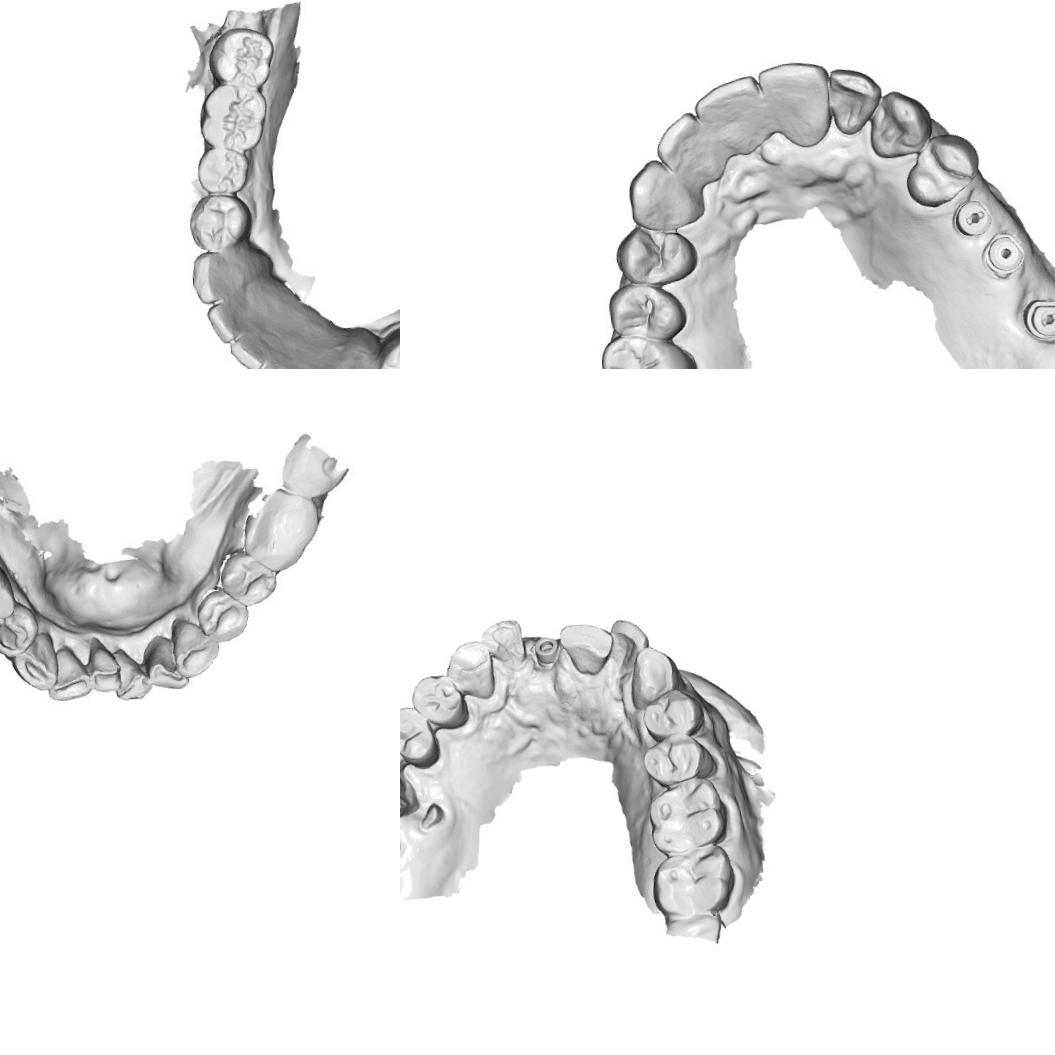canine: (624, 154, 708, 235), (864, 84, 935, 162), (190, 243, 268, 306), (626, 642, 688, 710), (170, 613, 222, 675), (444, 638, 496, 700), (15, 631, 62, 692), (326, 336, 386, 369)
implant: (980, 228, 1029, 282), (531, 634, 560, 666)
implant_minus: (951, 190, 996, 240), (1019, 294, 1055, 345)
incisor: (690, 72, 766, 154), (754, 59, 834, 134), (824, 61, 884, 136), (653, 109, 713, 184), (556, 620, 616, 678), (42, 644, 92, 708), (208, 292, 266, 346), (141, 635, 191, 693), (604, 616, 652, 674), (109, 648, 155, 704), (479, 616, 527, 668), (84, 639, 124, 694), (230, 334, 275, 369), (255, 349, 304, 369)
molar: (644, 774, 728, 856), (648, 840, 736, 918), (244, 489, 320, 566), (196, 80, 268, 148), (208, 25, 274, 94), (597, 329, 700, 369), (400, 734, 419, 821), (0, 565, 15, 625)
premolar: (901, 130, 982, 210), (613, 224, 702, 290), (606, 280, 688, 342), (640, 730, 717, 790), (640, 686, 706, 744), (408, 672, 470, 732), (219, 552, 282, 608), (190, 194, 249, 252), (198, 588, 249, 644), (400, 704, 441, 772), (196, 145, 245, 193), (0, 601, 39, 655)
